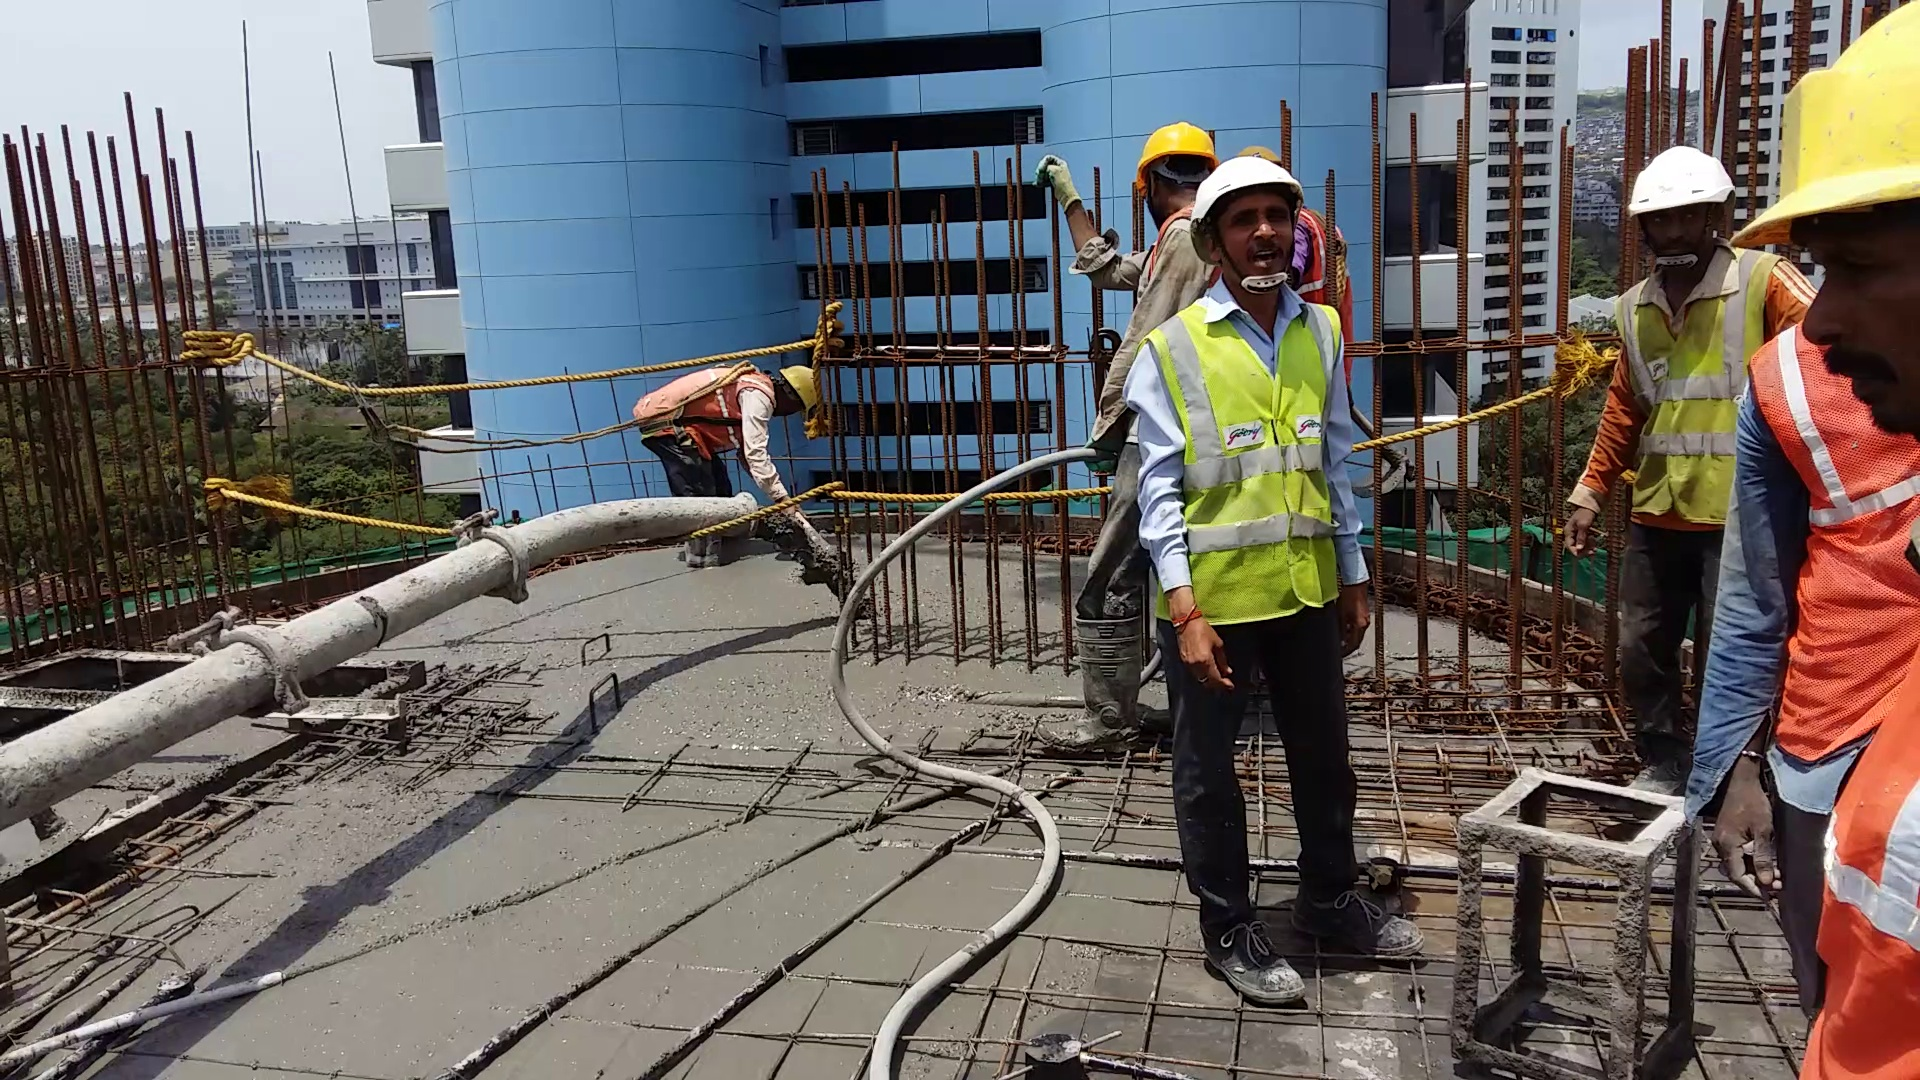SAFE: (1170, 149, 1332, 628), (1629, 133, 1726, 530)
